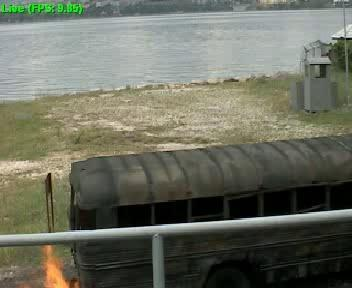fire: (24, 211, 78, 286)
